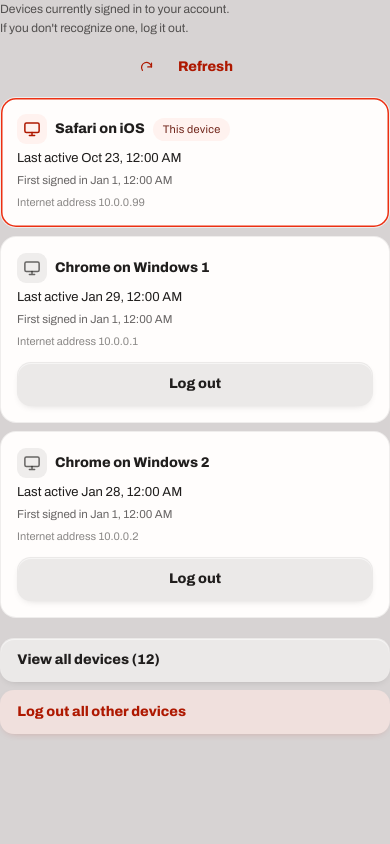
Test: revoking › leaves only the current device after logging out all others
Click the button "View all devices (12)" at [77, 659], box [0,638,389,682]
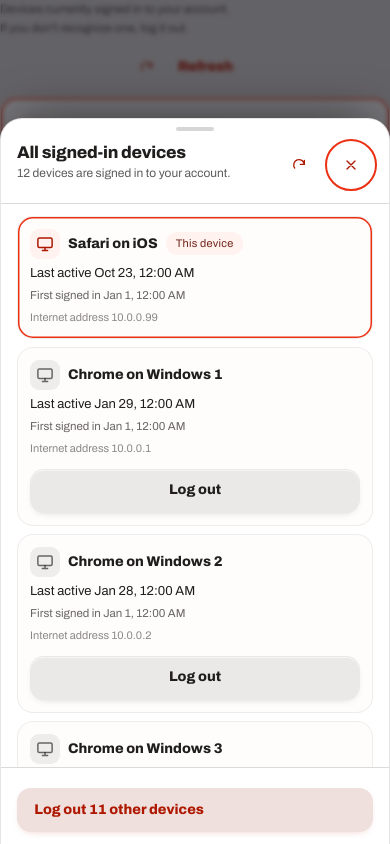
Click the button "Log out 11 other devices" at [195, 810], box [17,788,373,832]
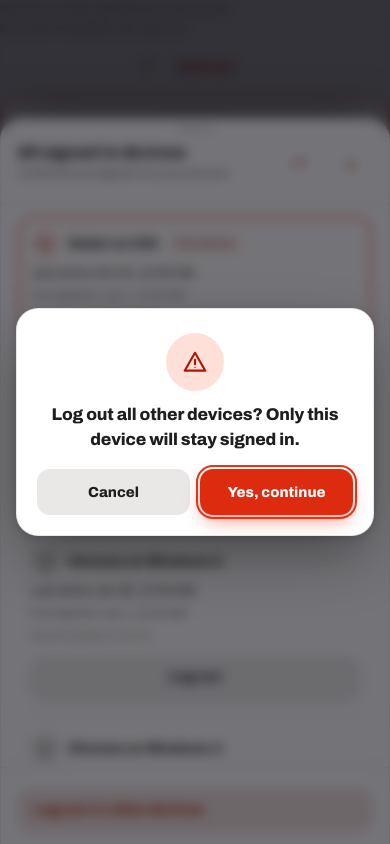
Click the button "Yes, continue" at [276, 492], box [200,469,353,515]
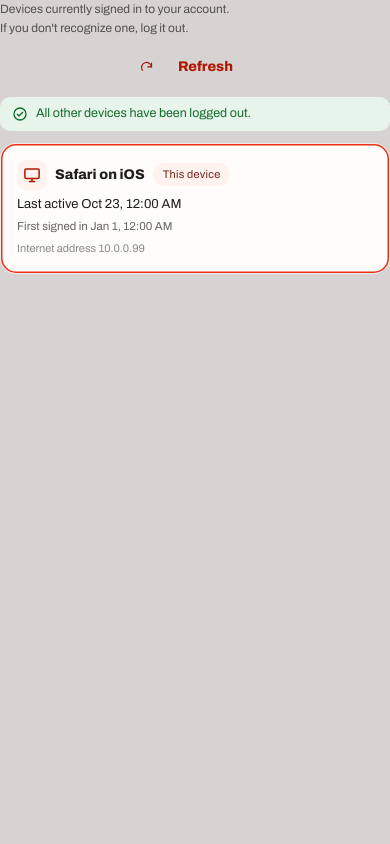
Expected: the text "This device" is shown, [153,163,230,186]
Result: the dialog is gone
